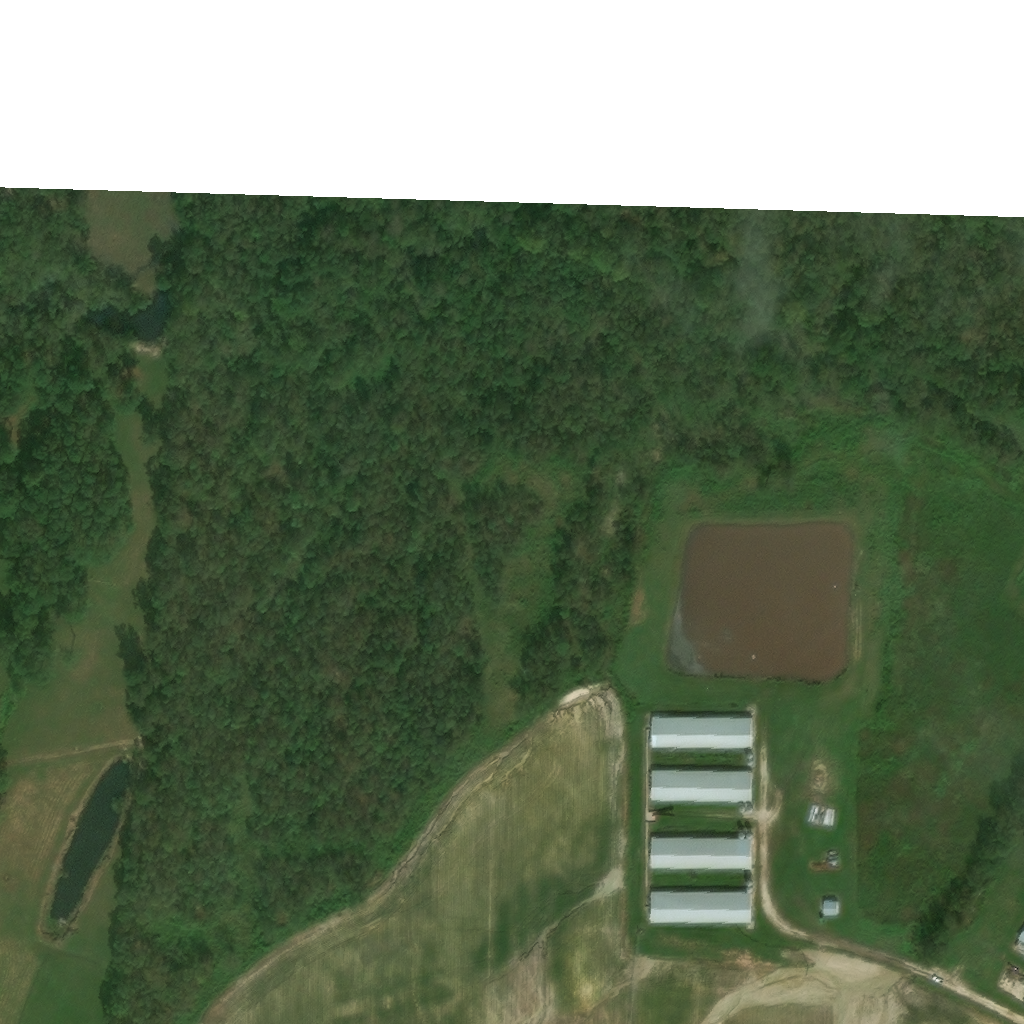no_damage: (648, 889, 752, 923), (647, 714, 750, 746), (648, 835, 750, 867), (648, 768, 750, 800), (823, 899, 841, 915)
